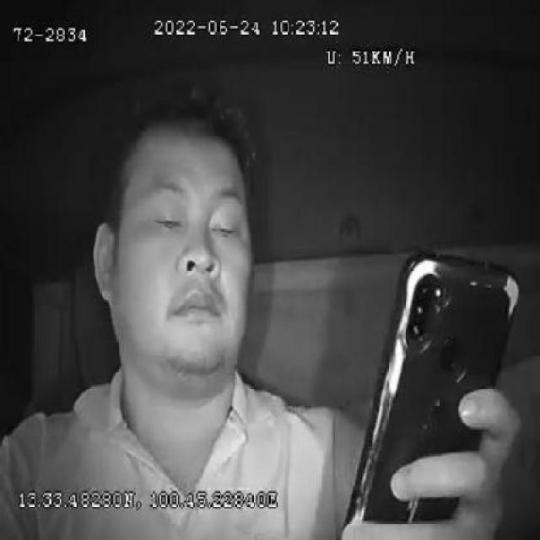phone: (344, 249, 518, 540)
